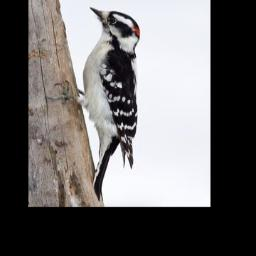Woodpecker: (45, 3, 142, 202)
